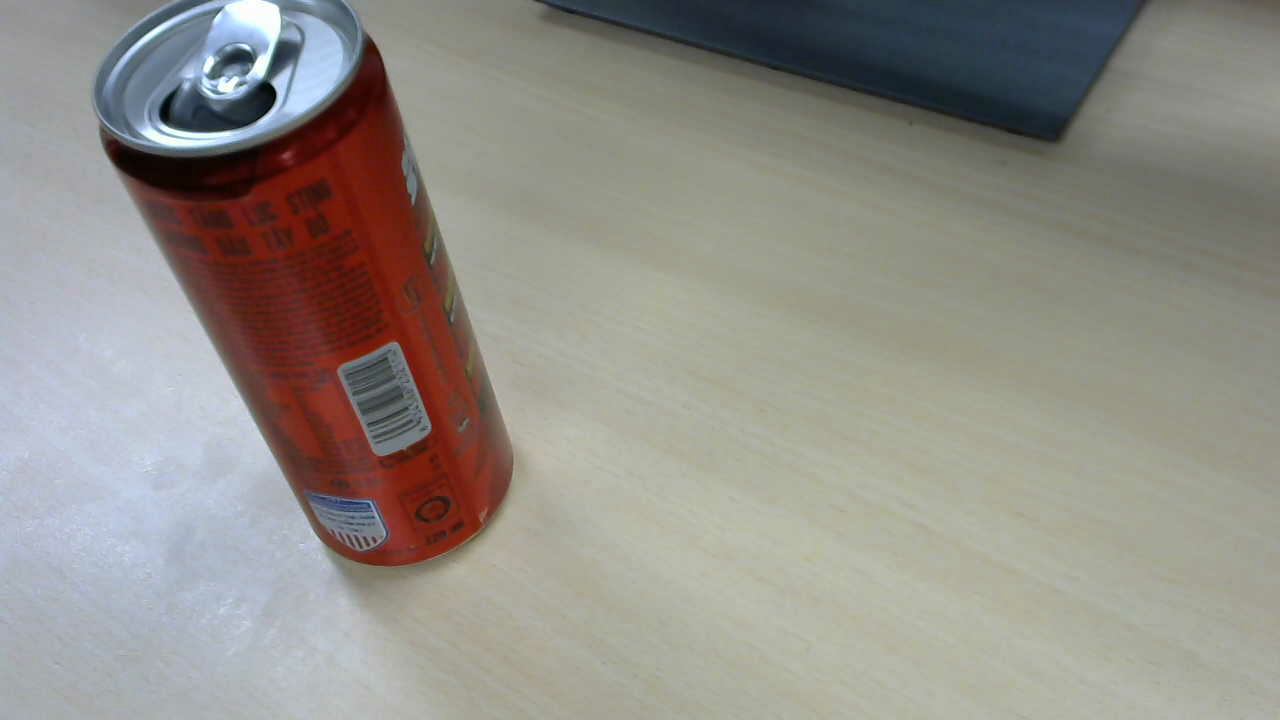Sting: (100, 8, 526, 572)
